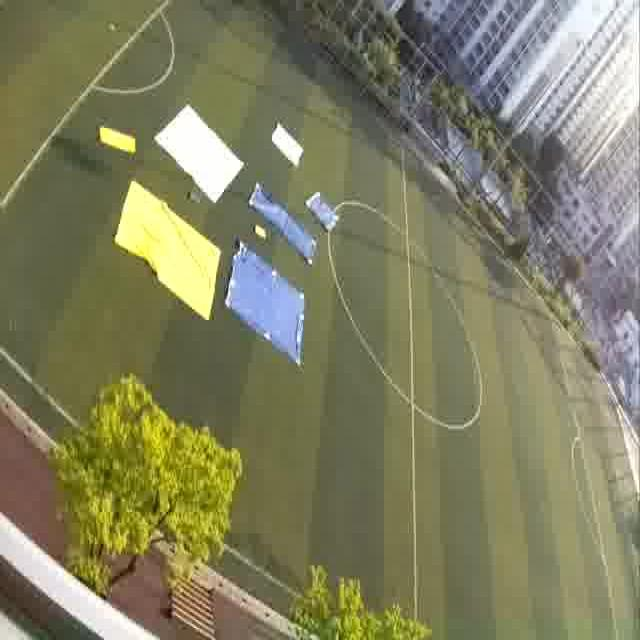danger: (227, 248, 291, 344), (269, 198, 300, 248), (306, 192, 340, 230)
safety: (156, 108, 244, 184), (270, 119, 310, 175)
warning: (126, 192, 197, 298), (92, 116, 139, 162)
